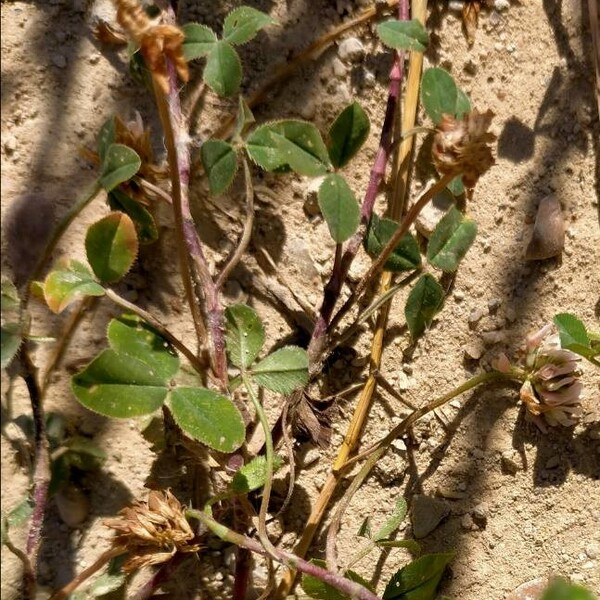obstacle: (78, 76, 430, 531)
